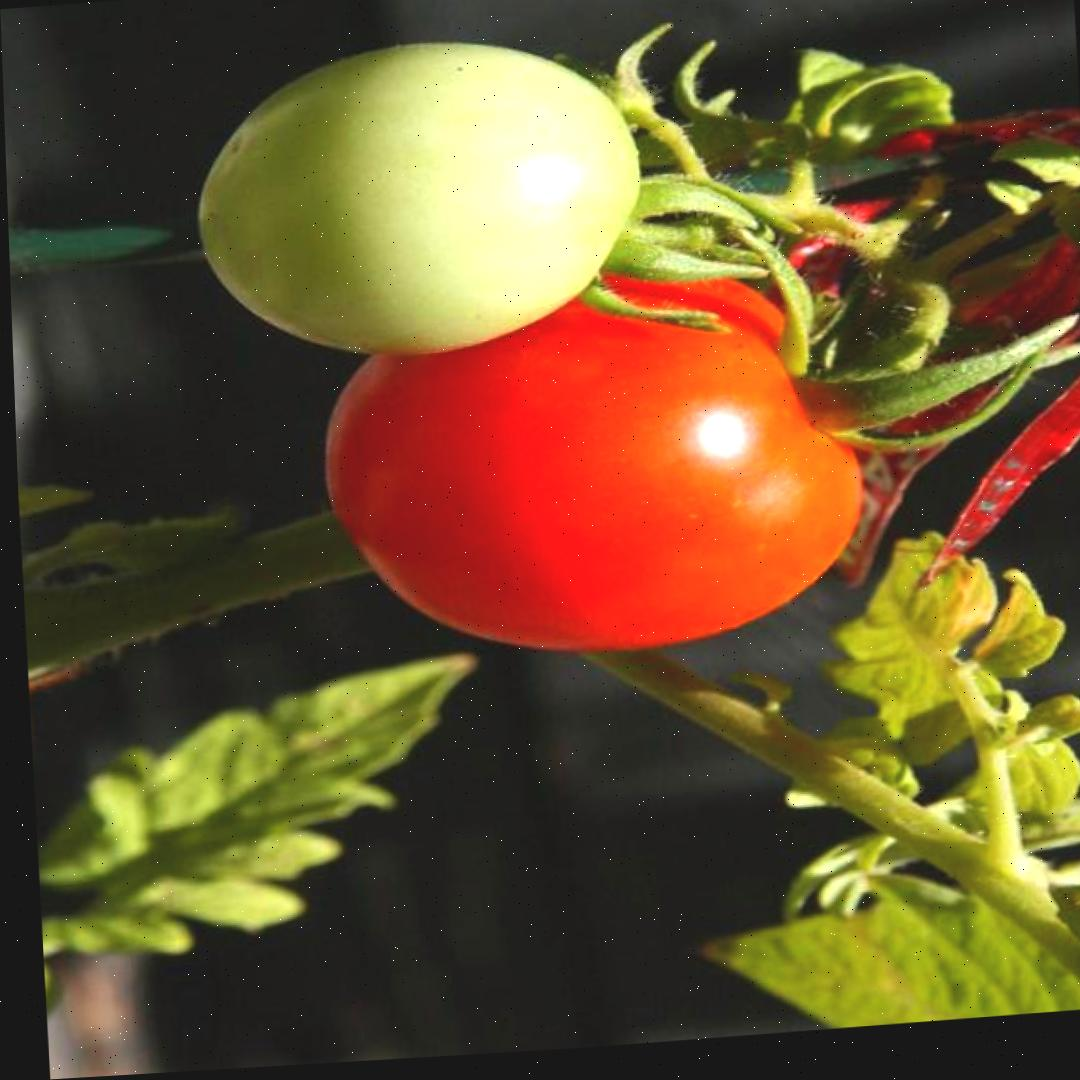matang: (306, 235, 876, 674)
mentah: (185, 18, 657, 371)
